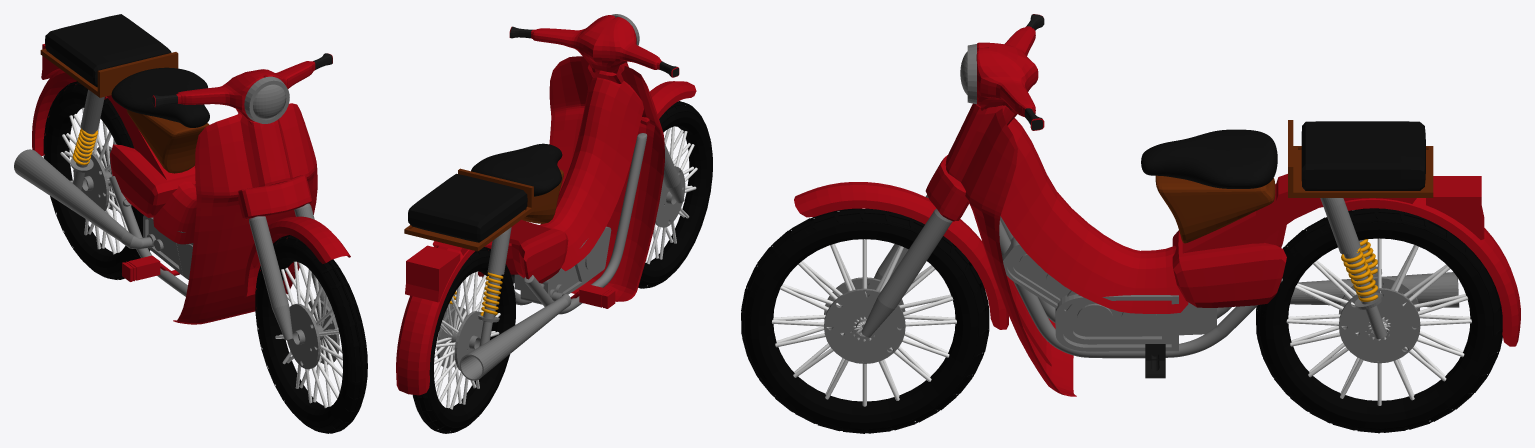
The model's file is 3D_MotorcycleHarsya.fbx.
3 renders of one model, left to right at view 1: azimuth 30°, elevation 25°; view 2: azimuth 150°, elevation 25°; view 3: azimuth 270°, elevation 25°, orthographic. The views are drawn at different scales.
Parts seen in each view (by area): view 1: Motor; view 2: Motor; view 3: Motor.
Part boxes in pixels (x1,y1,x2,y2): Motor: [14, 14, 367, 433]; Motor: [396, 14, 712, 433]; Motor: [741, 14, 1520, 433].
Size of the model in its own units: 77.25 by 131 by 240.
